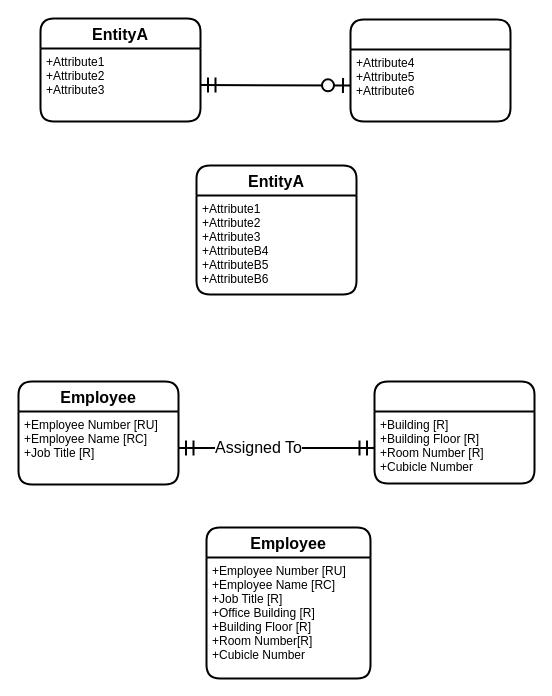
This 552x696 diagram has some shape labels left out. Here are the shapes that lost their labels. From the top down, the box of each, then its label:
(349, 18, 511, 122): EntityB
(373, 380, 535, 484): Office
